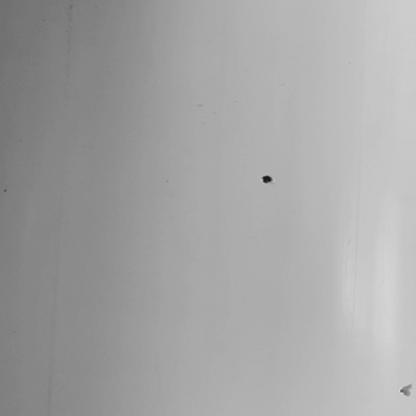kongdong: (246, 167, 280, 194), (398, 380, 416, 401)
